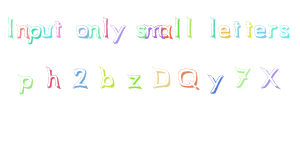2: (71, 67, 89, 88)
7: (233, 65, 250, 89)
D: (152, 66, 171, 89)
I: (3, 16, 19, 39)
Q: (177, 68, 200, 90)
X: (259, 65, 281, 89)
a: (158, 23, 173, 39)
b: (100, 65, 116, 89)
e: (218, 24, 232, 39), (254, 24, 267, 38)
h: (45, 64, 61, 89)
l: (208, 15, 217, 39), (101, 15, 110, 38), (186, 15, 194, 38), (174, 16, 181, 38)
m: (145, 23, 162, 39)
n: (15, 24, 29, 39), (88, 23, 102, 38)
o: (74, 24, 89, 38)
p: (18, 72, 33, 94), (28, 23, 42, 46)
r: (268, 24, 278, 39)
s: (134, 24, 148, 39), (279, 24, 291, 39)
t: (53, 18, 64, 38), (244, 20, 254, 38), (233, 19, 241, 38)
u: (40, 23, 53, 39)
y: (109, 22, 126, 45), (206, 74, 224, 94)
z: (127, 72, 143, 89)
